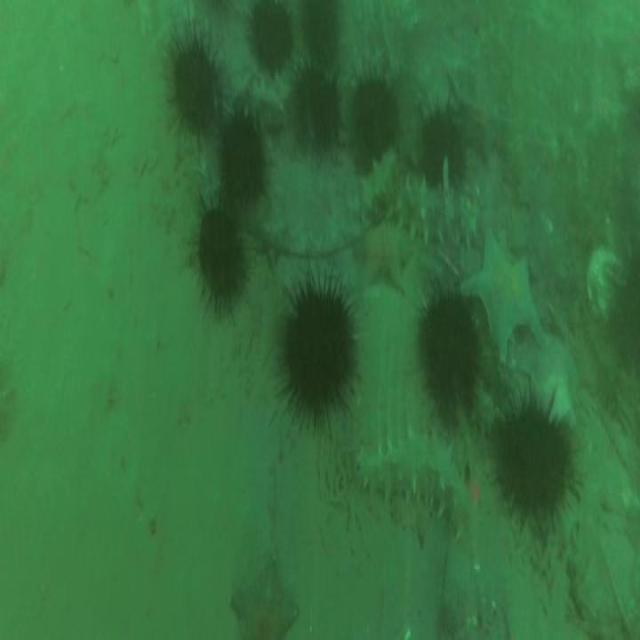echinus: (279, 294, 353, 409), (498, 405, 569, 523), (420, 291, 480, 420), (193, 212, 246, 300), (220, 114, 265, 207), (351, 74, 398, 158), (292, 73, 337, 158), (170, 46, 214, 130), (419, 108, 465, 188), (250, 2, 290, 74), (300, 1, 338, 62)
holothurian: (356, 425, 478, 545), (399, 180, 477, 248), (356, 152, 400, 215)
starfish: (465, 232, 543, 359), (230, 556, 302, 640), (357, 220, 411, 284)
